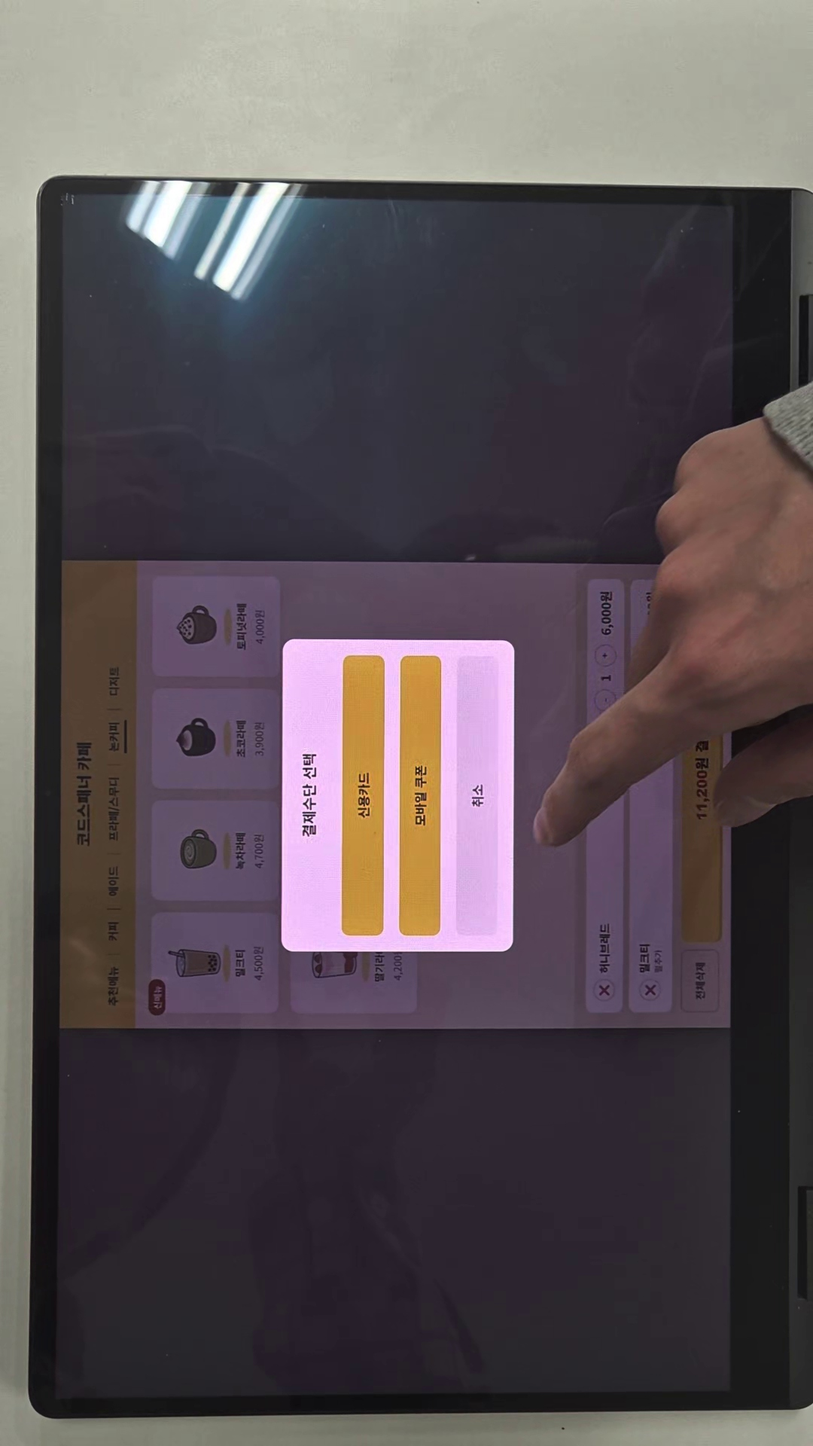action_button: (456, 656, 498, 935)
cart_item: (629, 579, 672, 1013), (587, 578, 624, 1014), (681, 949, 719, 1013)
category_tab: (107, 777, 120, 842), (106, 965, 120, 1007), (107, 865, 120, 897), (108, 666, 121, 697), (107, 722, 120, 753), (106, 921, 120, 942)
menu_back: (150, 911, 279, 1013), (153, 575, 280, 678), (152, 687, 280, 789), (151, 800, 280, 901)
menu_name: (235, 602, 248, 652), (235, 719, 247, 759), (234, 832, 246, 870), (234, 949, 246, 978)
menu_price: (252, 946, 265, 982), (253, 834, 266, 870), (253, 721, 266, 757), (254, 609, 267, 645)
option_button: (343, 655, 384, 935), (400, 655, 440, 935)
popup_modal: (281, 638, 514, 951)
